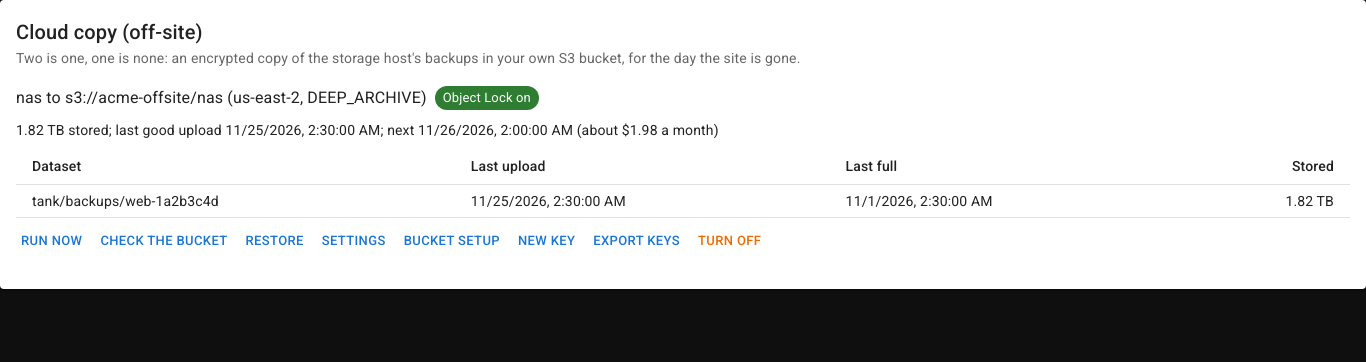
Scenario: a new key says so, and that the keys need exporting again
Click the button "New key".
click(547, 241)  # box [513,226,580,257]
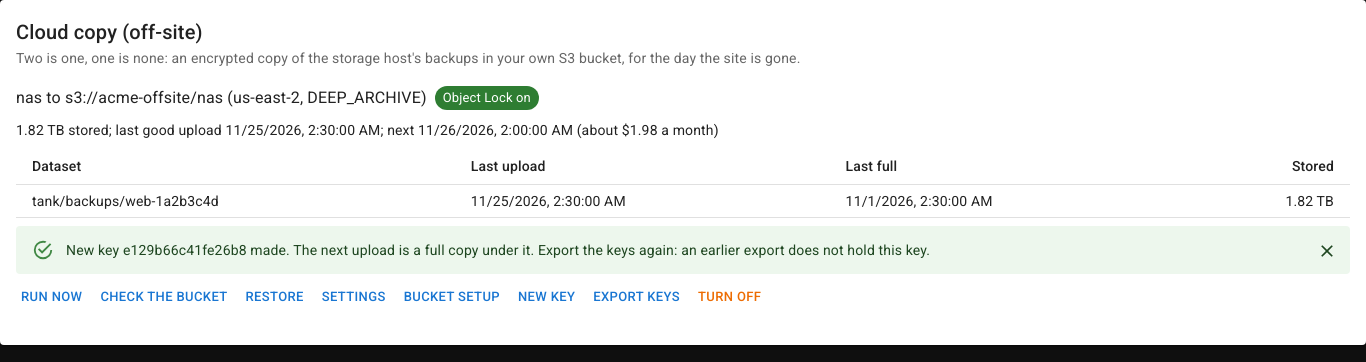
Now the text "Export the keys again" is shown, box [66,242,930,258]
